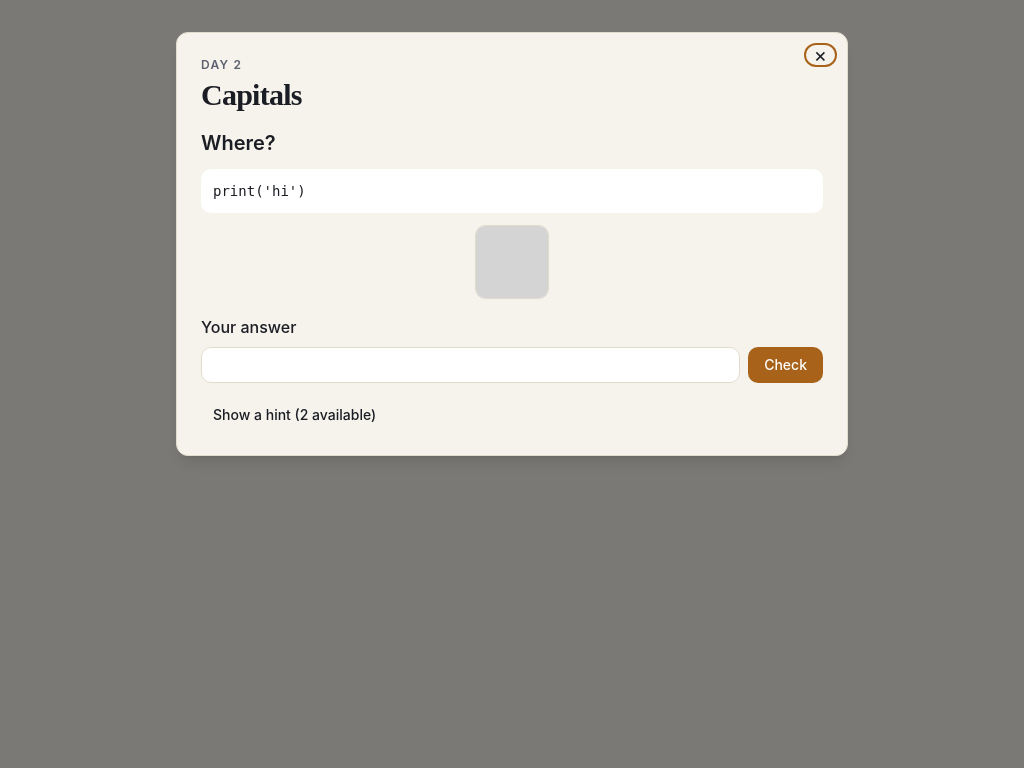
Test: door panel › accepts an answer in any case and punctuation, and stores the word
Type "  Paris! " into the field labelled "Your answer" at (471, 365), box [201,347,740,383]
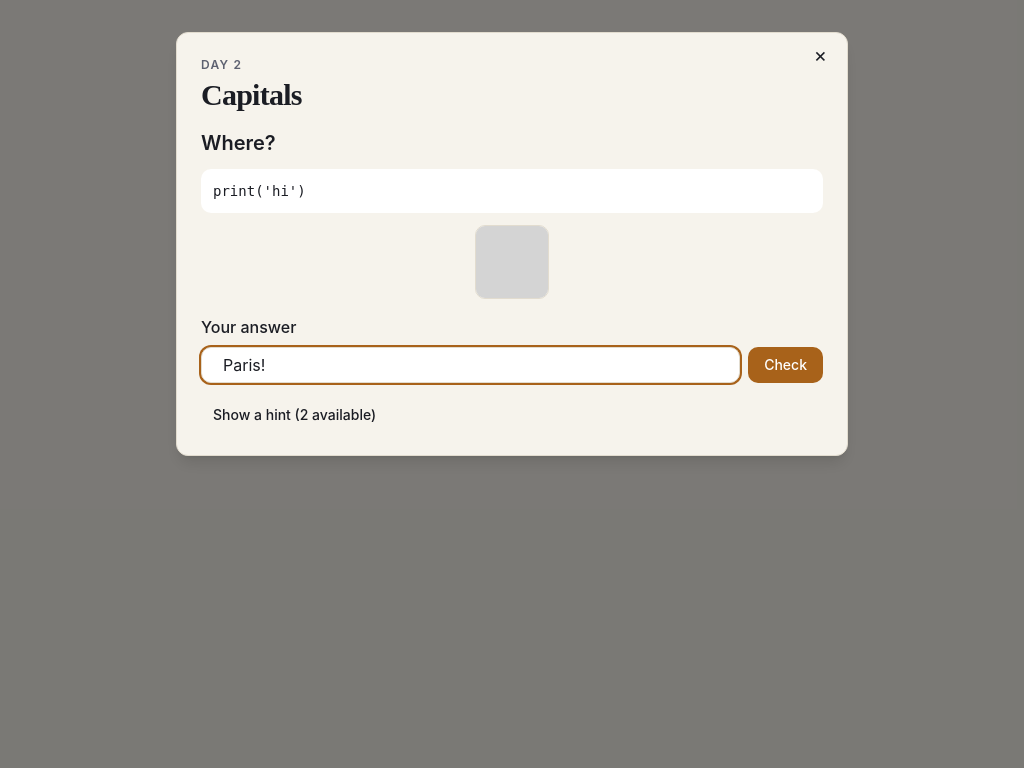
Click the button "Check" at (786, 365), box [748,347,823,383]
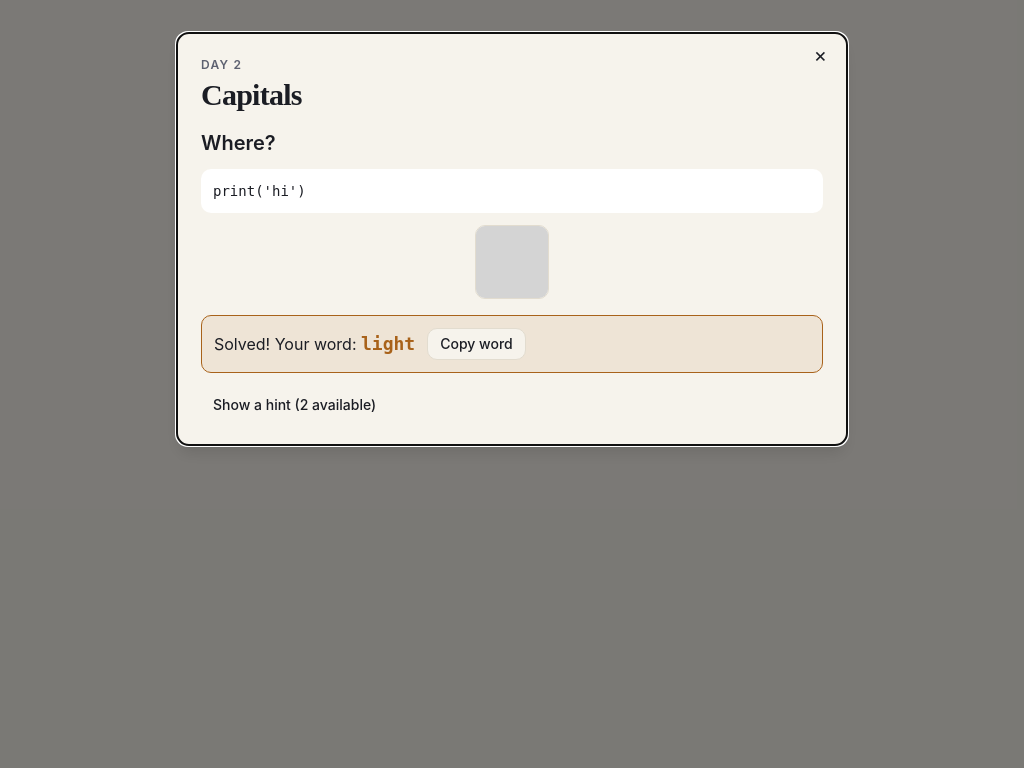
Now the text "light" is shown, box [361,333,415,354]
